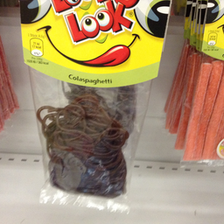candy: (23, 1, 151, 202), (184, 9, 224, 162)
